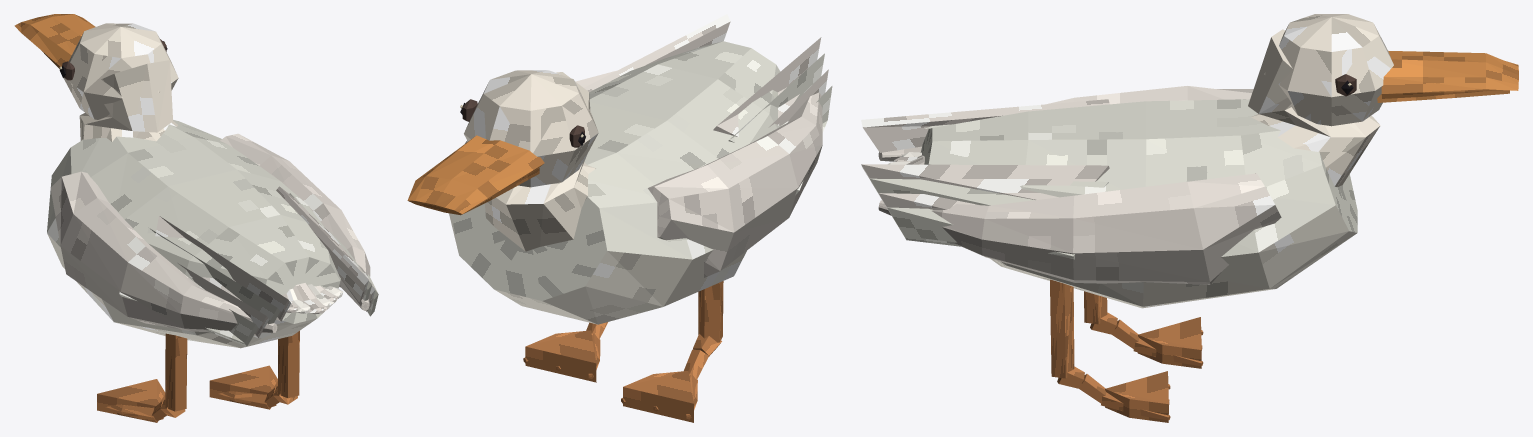
File: mon_duck_domestic.glb
3 views of the same model, side by side, from view 1: azimuth 30°, elevation 25°; view 2: azimuth 150°, elevation 25°; view 3: azimuth 270°, elevation 25° (orthographic). The views are drawn at different scales.
Visible parts, largest first — view 1: closed_body; view 2: closed_body; view 3: closed_body.
Part boxes in pixels (box(x1,y1,x2,y2)): closed_body: box(14, 14, 378, 422); closed_body: box(407, 14, 832, 422); closed_body: box(861, 14, 1518, 422).
Size of the model in its own units: 0.2154 by 0.283 by 0.4644.
Materials: 1 (1 with a texture image).
